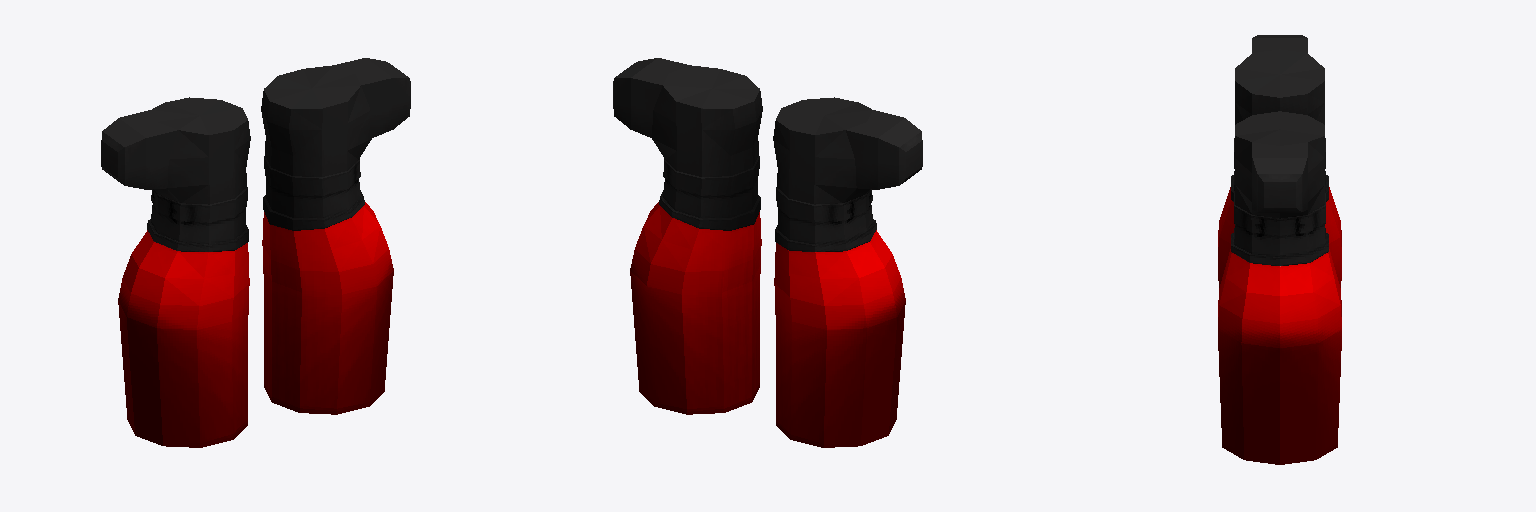
3 renders of one model, left to right at view 1: azimuth 30°, elevation 25°; view 2: azimuth 150°, elevation 25°; view 3: azimuth 270°, elevation 25°, orthographic.
Parts seen in each view (by area): view 1: Handle1.001; view 2: Handle1.001; view 3: Handle1.001.
Part boxes in pixels (x1,y1,x2,y2): Handle1.001: (101, 58, 410, 447); Handle1.001: (613, 58, 922, 447); Handle1.001: (1218, 35, 1341, 464).
Size of the model in its own units: 1.92 by 1.98 by 0.7057.
1 materials, 1 textured.